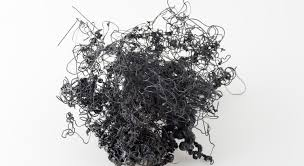Fail: (49, 3, 249, 166)
